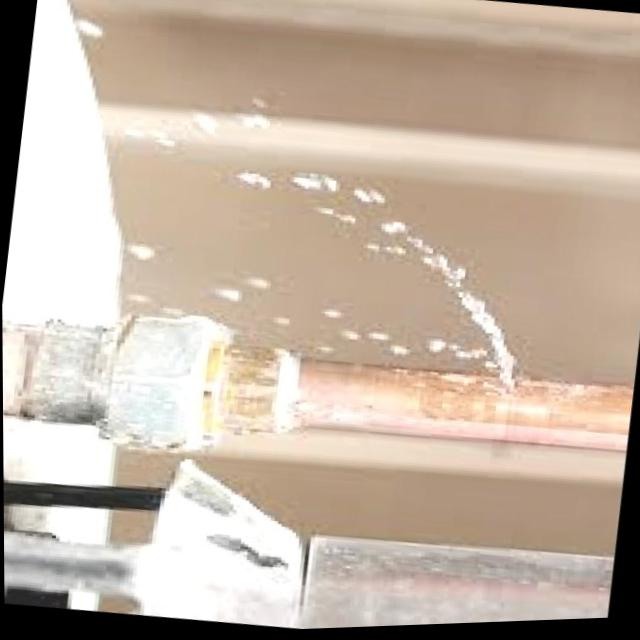leak: (124, 138, 528, 383)
